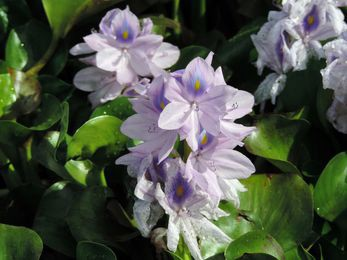water_hyacinth: (1, 0, 347, 259)
